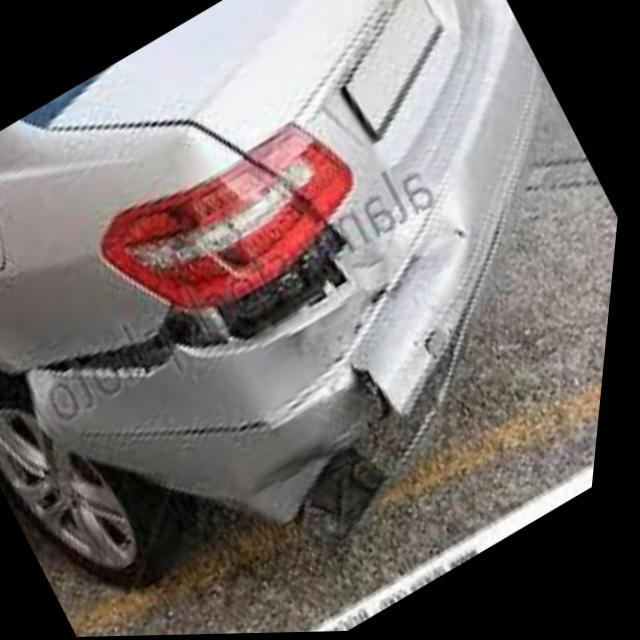dislocated part: (8, 171, 500, 561)
